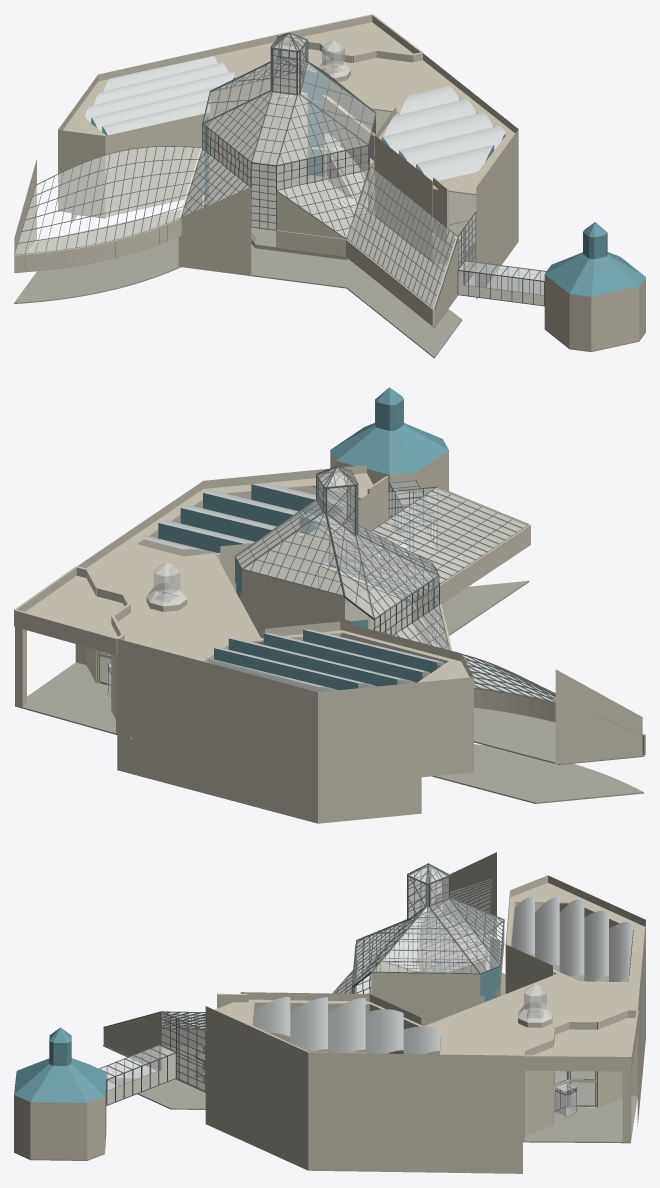
Rendered from MUDAM_R11_DOGU_UC_CAM_v001_preview.glb.
3 views of the same model, one above another, from view 1: azimuth 30°, elevation 25°; view 2: azimuth 150°, elevation 25°; view 3: azimuth 270°, elevation 25° (orthographic). The views are drawn at different scales.
Parts seen in each view (by area): view 1: P05_ZONE_LM1_GALLERIES_FOYER, P05_MAIN_ROOF_DECK, P05_GALLERY_HALL_WEST1, P05_MAIN_ATRIUM_BASE_3, P04_PAV_WALL_ENVELOPE, R07_STAIRWELL_STONE_NORTH, P05_FRONT_0, P05_GALLERY_HALL_EAST1, P05_FLOOR_L00_GH, P05_GALLERY_HALL_WEST2, P05_FLOOR_L00_EAST_GARDEN, P04_PAV_ROOF_SLOPE (+21 smaller); view 2: P05_FRONT_9, P05_MAIN_ROOF_DECK, P05_FRONT_10, P05_ZONE_LM1_GALLERIES_FOYER, P05_WEST_END, P05_GALLERY_HALL_WEST3, P04_PAV_ROOF_SLOPE, P07_CANOPY_PAVING_DISPLAY, P05_GALLERY_HALL_EAST1, P05_FLOOR_L00_WEST_CAFE, R11_STONE_END, P07_CANOPY_SLAB_ENVELOPE (+27 smaller); view 3: P05_FRONT_1, P05_MAIN_ROOF_DECK, P05_FRONT_0, P04_PAV_WALL_ENVELOPE, P04_PAV_ROOF_SLOPE, P07_CANOPY_PAVING_DISPLAY, P06_HIGH_EAVE_UPSTAND_5, P07_CANOPY_SLAB_ENVELOPE, P05_WEST_END, R11_STONE_END, P07_ENTRY_RETURN_1, P07_CANOPY_FASCIA_0 (+16 smaller).
Part boxes in pixels (x1,y1,x2,y2): P05_ZONE_LM1_GALLERIES_FOYER: (14,237,462,358); P05_MAIN_ROOF_DECK: (62,42,517,195); P05_GALLERY_HALL_WEST1: (105,112,212,217); P05_MAIN_ATRIUM_BASE_3: (208,93,307,196); P04_PAV_WALL_ENVELOPE: (544,274,645,350); R07_STAIRWELL_STONE_NORTH: (178,187,251,275); P05_FRONT_0: (476,129,518,299); P05_GALLERY_HALL_EAST1: (375,136,432,262); P05_FLOOR_L00_GH: (204,176,374,257); P05_GALLERY_HALL_WEST2: (58,130,105,217); P05_FLOOR_L00_EAST_GARDEN: (348,217,476,327); P04_PAV_ROOF_SLOPE: (545,252,645,296); P05_FRONT_9: (117,639,317,823); P05_MAIN_ROOF_DECK: (86,473,473,701); P05_FRONT_10: (318,682,421,823); P05_ZONE_LM1_GALLERIES_FOYER: (432,581,643,803); P05_WEST_END: (555,669,642,764); P05_GALLERY_HALL_WEST3: (421,677,473,777); P04_PAV_ROOF_SLOPE: (330,423,448,474); P07_CANOPY_PAVING_DISPLAY: (15,662,117,734); P05_GALLERY_HALL_EAST1: (302,487,378,604); P05_FLOOR_L00_WEST_CAFE: (474,707,644,764); R11_STONE_END: (437,487,529,553); P07_CANOPY_SLAB_ENVELOPE: (25,575,124,637); P05_FRONT_1: (308,1052,522,1173); P05_MAIN_ROOF_DECK: (207,883,645,1064); P05_FRONT_0: (205,1006,308,1170); P04_PAV_WALL_ENVELOPE: (14,1077,106,1159); P04_PAV_ROOF_SLOPE: (14,1058,106,1102); P07_CANOPY_PAVING_DISPLAY: (523,1096,637,1143); P06_HIGH_EAVE_UPSTAND_5: (371,972,480,996); P07_CANOPY_SLAB_ENVELOPE: (533,1018,635,1055); P05_WEST_END: (442,852,496,937); R11_STONE_END: (103,1011,162,1070); P07_ENTRY_RETURN_1: (522,1039,553,1136); P07_CANOPY_FASCIA_0: (523,1055,630,1071).
Bounding box in the file's own units: 80.45 × 35.94 × 93.28.
